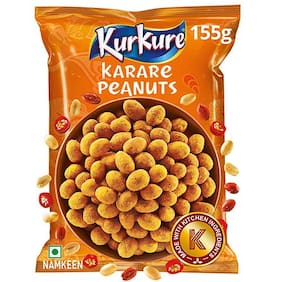kurkure: (82, 22, 199, 64)
plastic: (12, 1, 271, 282)
wrapper: (42, 13, 231, 267)
